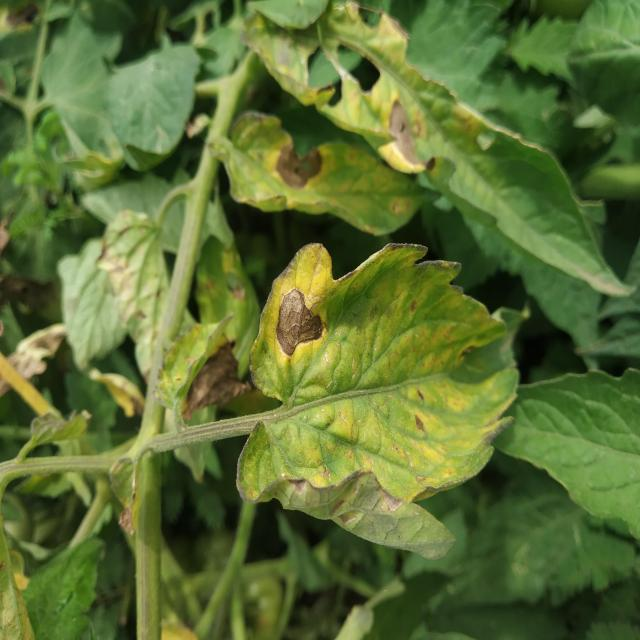Early Blight: (122, 81, 392, 399), (197, 397, 422, 538)
